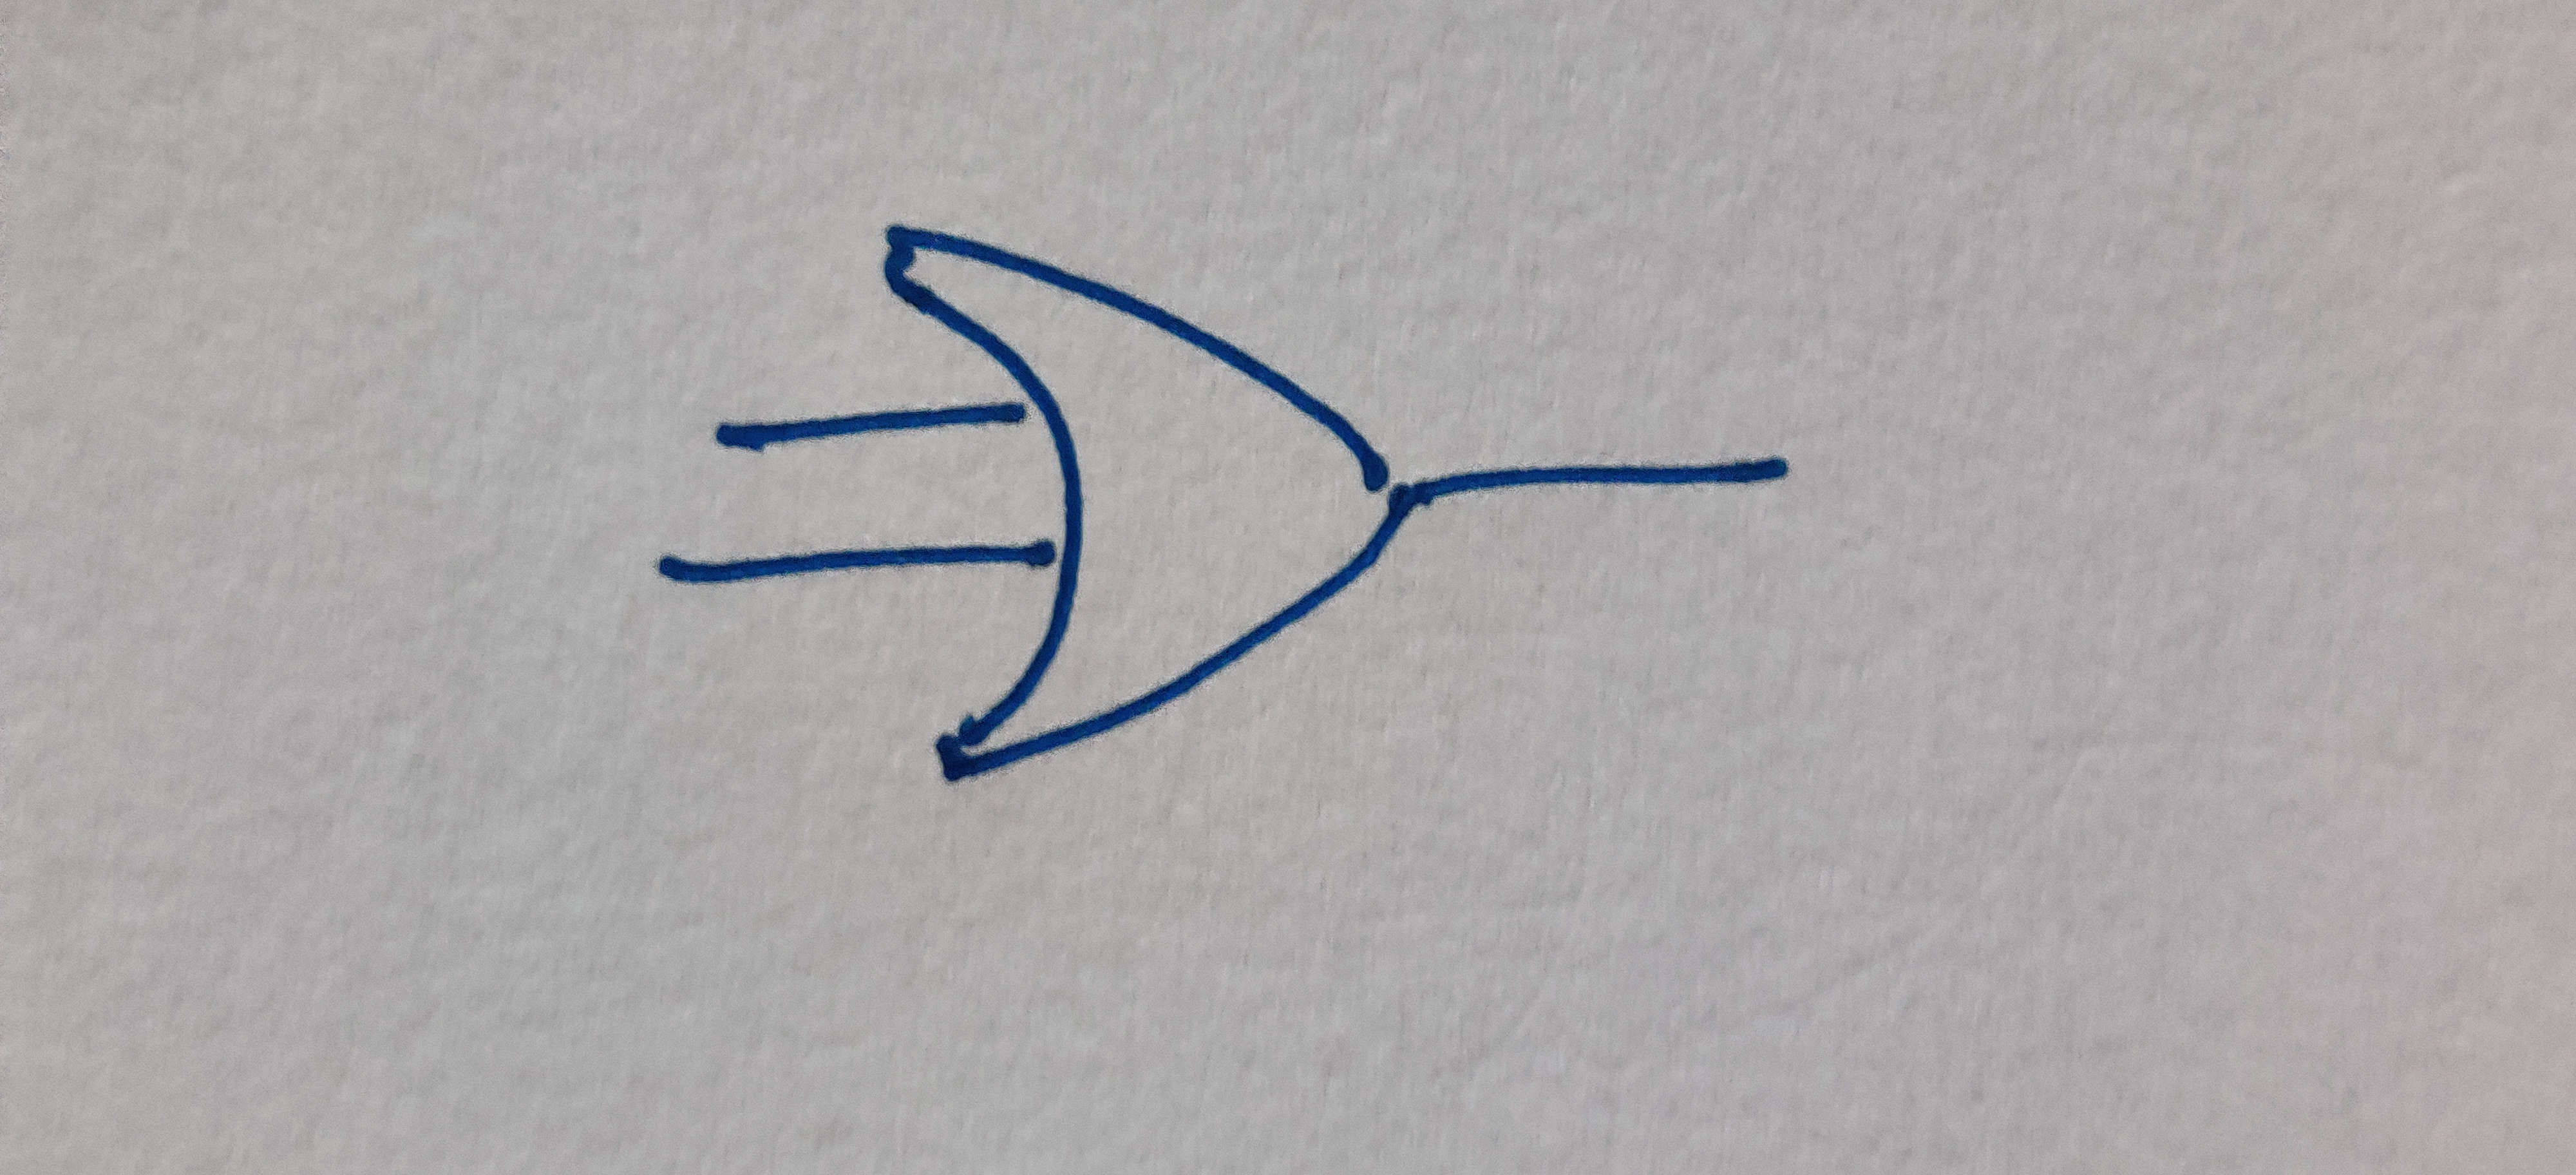or: (881, 219, 1418, 782)
